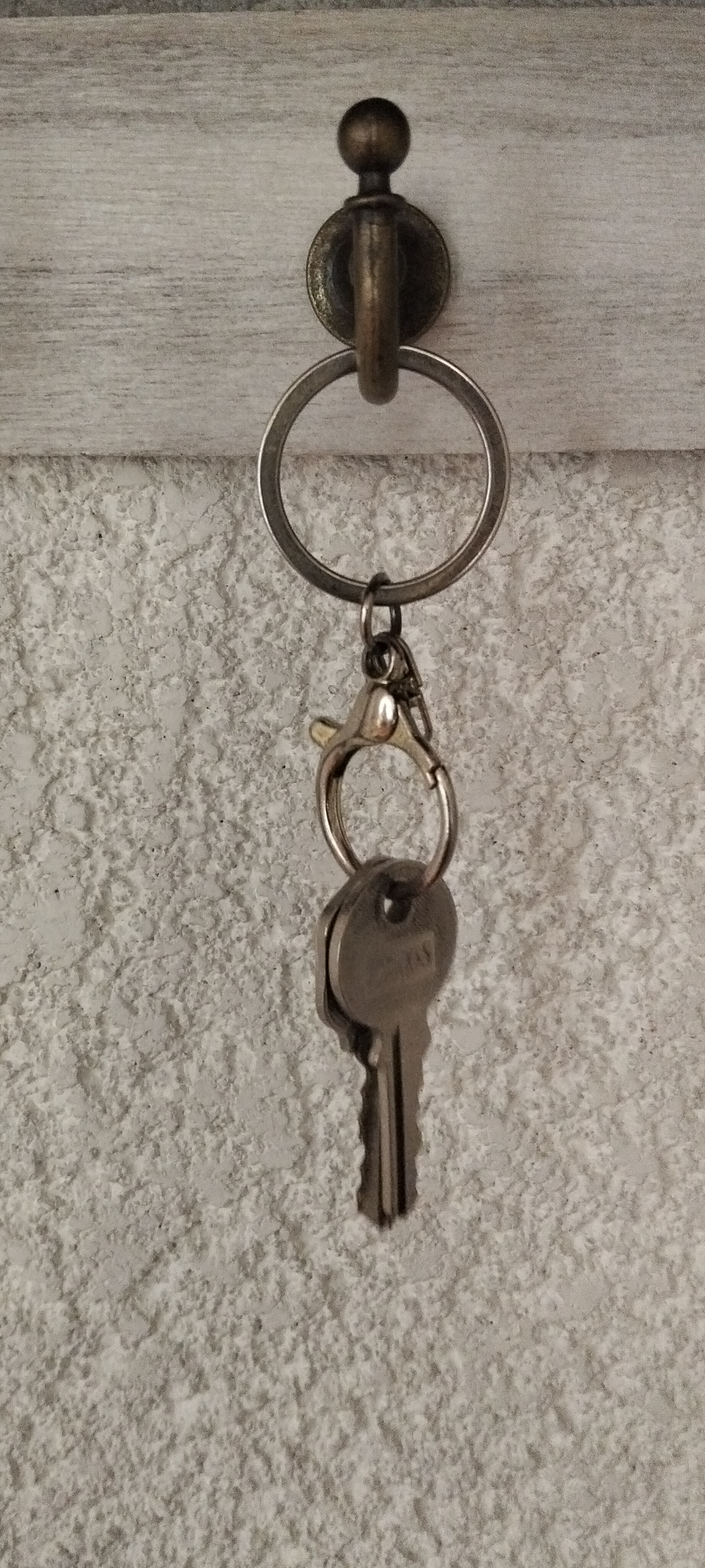llaves: (170, 321, 578, 1240)
